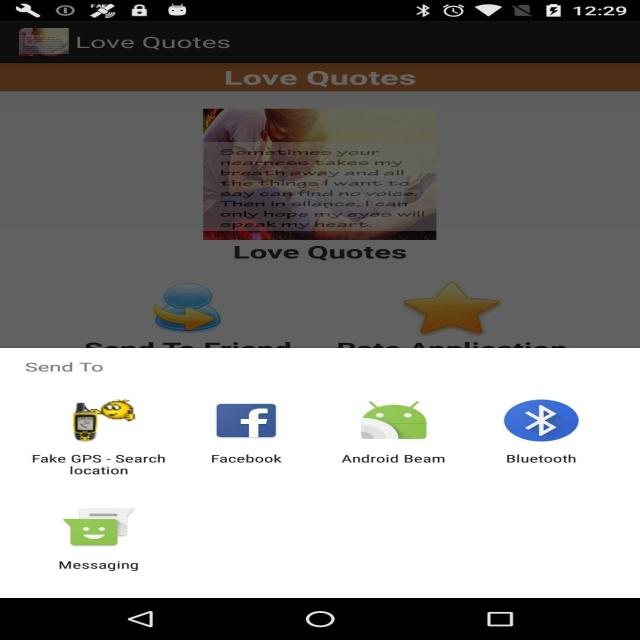button: (21, 387, 175, 482), (331, 385, 471, 482), (192, 389, 309, 482), (488, 382, 598, 475), (47, 502, 161, 588)
image: (180, 106, 458, 270), (392, 275, 521, 342), (134, 278, 261, 330), (497, 389, 584, 446), (348, 392, 440, 445), (59, 396, 149, 448), (61, 510, 138, 555), (211, 401, 290, 444), (9, 26, 80, 58)
text: (213, 140, 425, 228), (88, 335, 574, 356), (213, 66, 430, 95), (230, 240, 423, 266), (32, 448, 162, 478), (84, 34, 234, 58), (328, 447, 449, 471), (52, 557, 149, 578), (197, 449, 288, 470), (18, 359, 117, 377), (504, 451, 586, 471)
